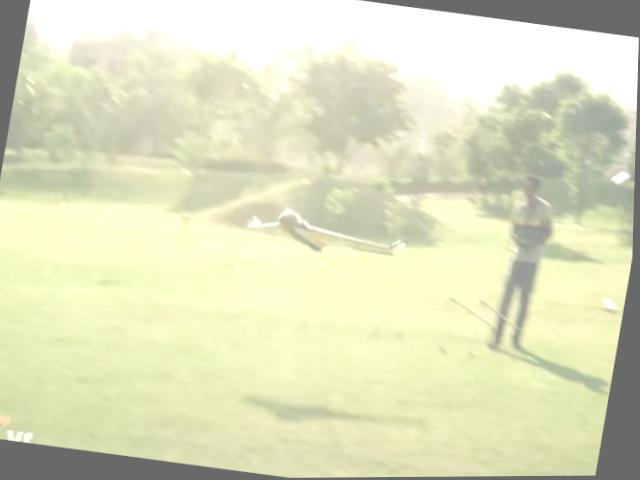iha: (242, 192, 417, 268)
